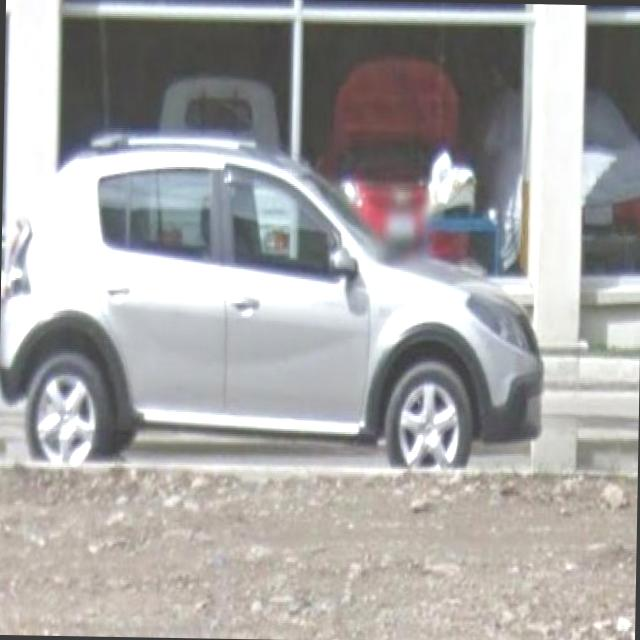car: (0, 127, 554, 475)
